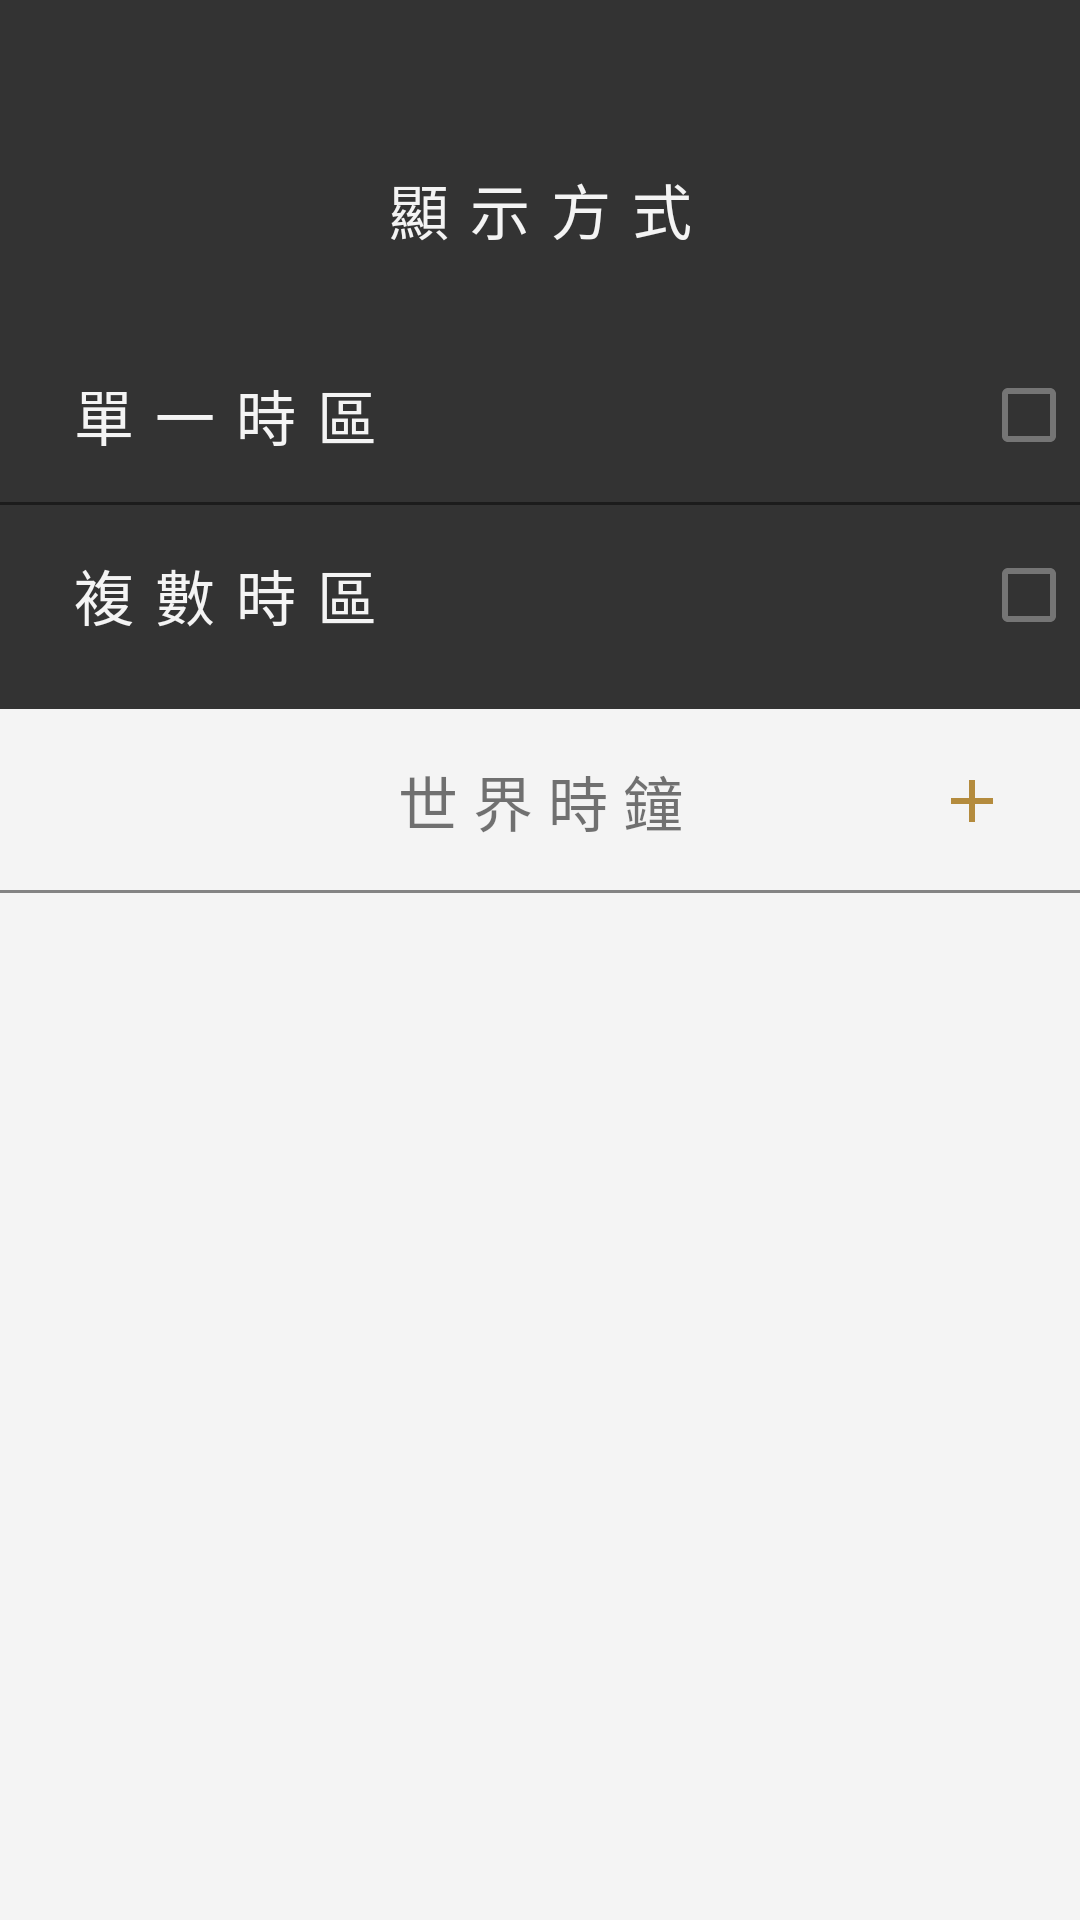

Screen size 1080×1920. Icon name, then its center in pixels as (x=x, y=y):
add: (x=972, y=801)
